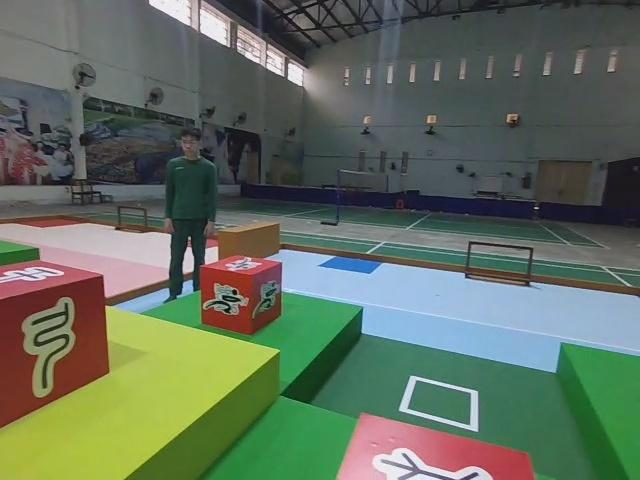R1: (199, 252, 285, 339)
R2 Fake: (0, 256, 114, 434)
R2 Real: (321, 400, 537, 480)
